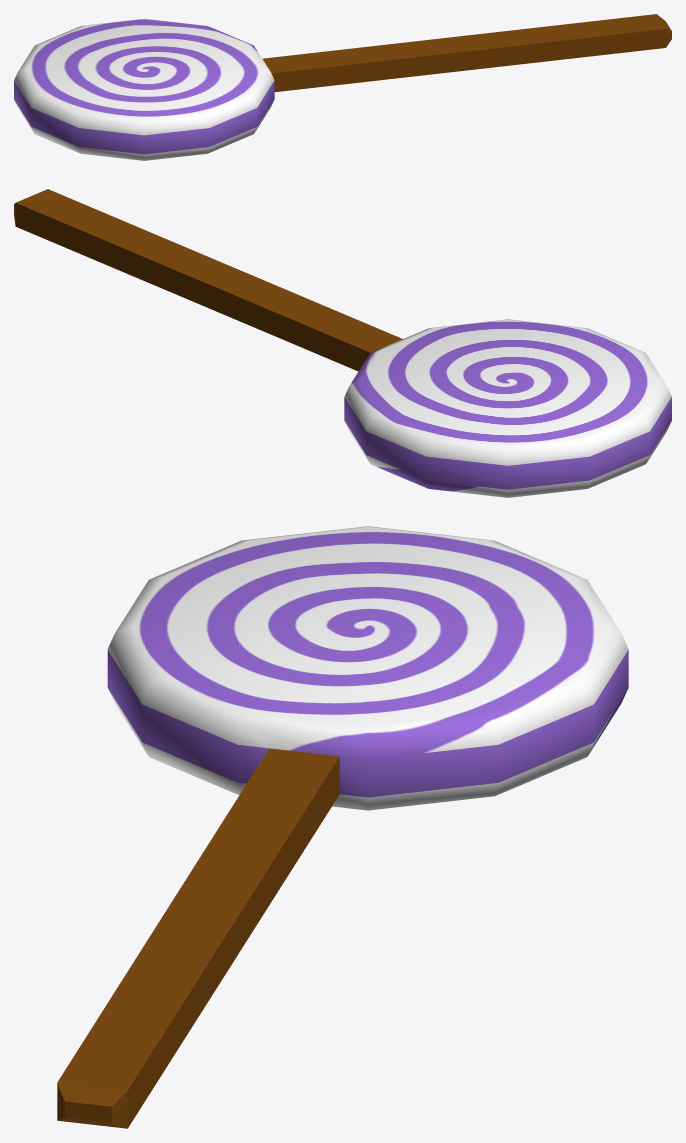
Rendered from piruletaT.FBX.
3 views of the same model, one above another, from view 1: azimuth 30°, elevation 25°; view 2: azimuth 150°, elevation 25°; view 3: azimuth 270°, elevation 25° (orthographic). The views are drawn at different scales.
Parts seen in each view (by area): view 1: piruleta; view 2: piruleta; view 3: piruleta.
Boxes of the visible parts, x1,y1,x2,y2 form: piruleta: (14, 14, 671, 160); piruleta: (14, 189, 671, 497); piruleta: (57, 526, 628, 1128).
Size of the model in its own units: 171 by 12.01 by 74.35.
1 material, 1 textured.
